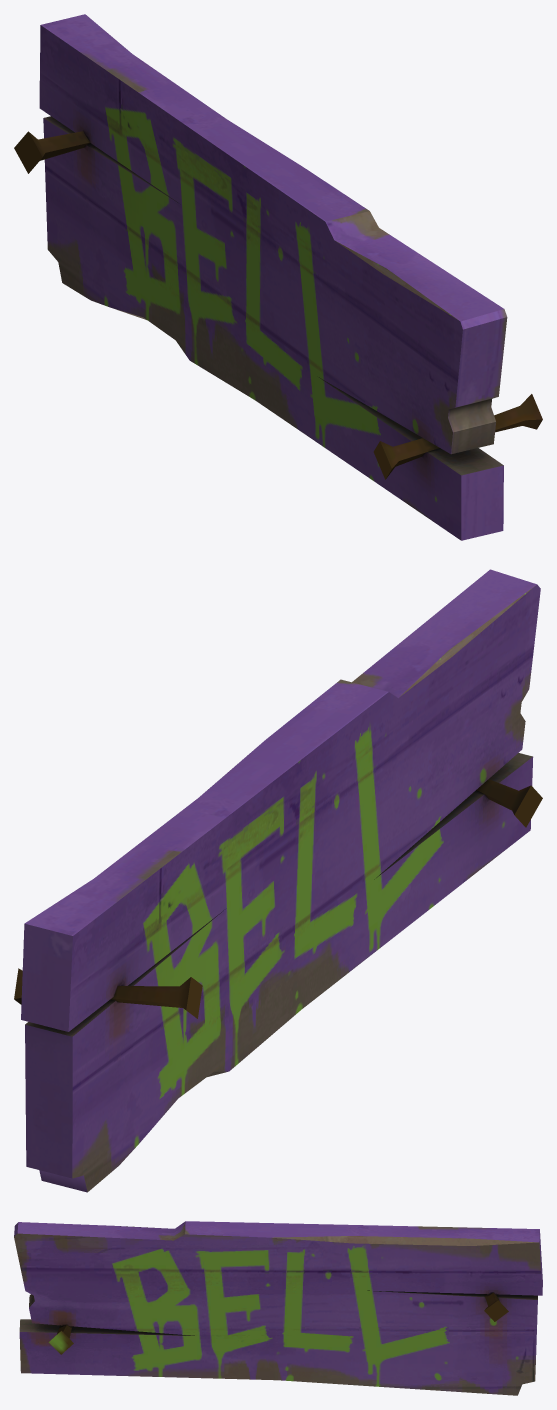
File: carnival_signs.glb
3 renders of one model, top to bottom at view 1: azimuth 30°, elevation 25°; view 2: azimuth 150°, elevation 25°; view 3: azimuth 270°, elevation 25°, orthographic. The views are drawn at different scales.
Visible parts, largest first — view 1: carnival_signs; view 2: carnival_signs; view 3: carnival_signs.
Part boxes in pixels (x1,y1,x2,y2): carnival_signs: (14, 14, 542, 540); carnival_signs: (14, 569, 542, 1192); carnival_signs: (14, 1221, 542, 1395).
Bounding box in the file's own units: 0.2059 × 0.2923 × 0.8688.
1 material, 1 textured.
